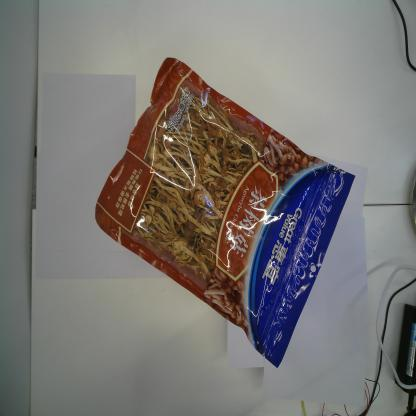Dried Food: (93, 55, 356, 369)
